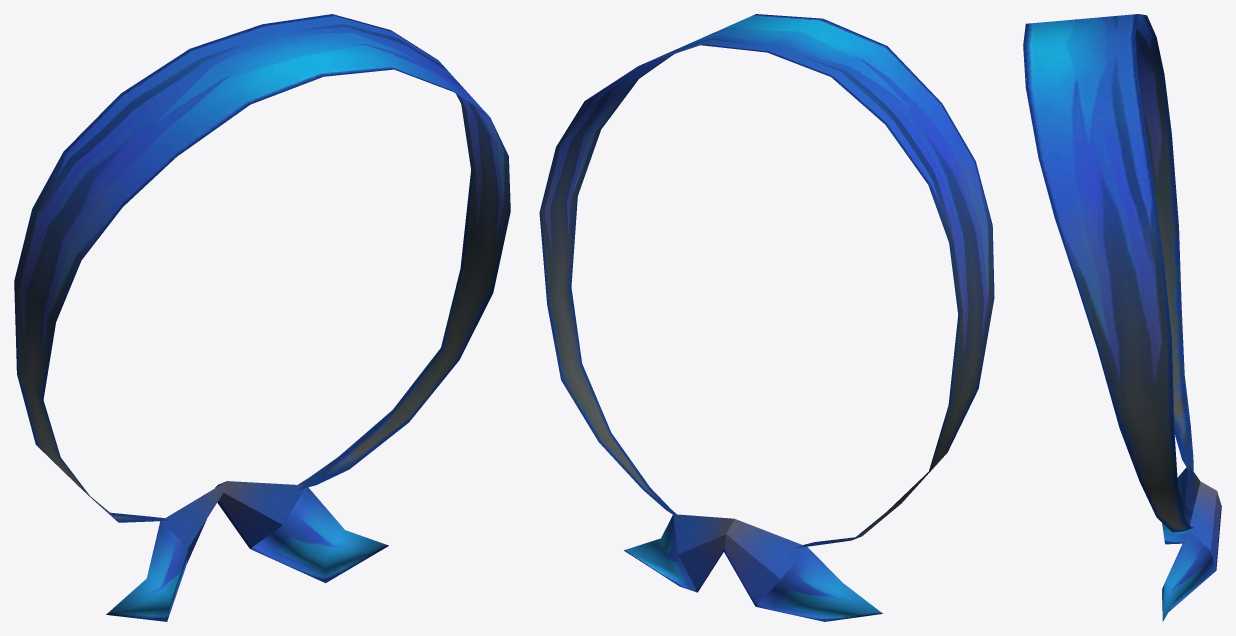
The model's file is helm9009.fbx.
3 renders of one model, left to right at view 1: azimuth 30°, elevation 25°; view 2: azimuth 150°, elevation 25°; view 3: azimuth 270°, elevation 25°, orthographic. The views are drawn at different scales.
Visible parts, largest first — view 1: helm_9009; view 2: helm_9009; view 3: helm_9009.
Boxes of the visible parts, box(x1,y1,x2,y2) form: helm_9009: box(14, 14, 510, 621); helm_9009: box(539, 14, 994, 621); helm_9009: box(1023, 14, 1221, 620).
Size of the model in its own units: 0.3049 by 0.3763 by 0.1251.
